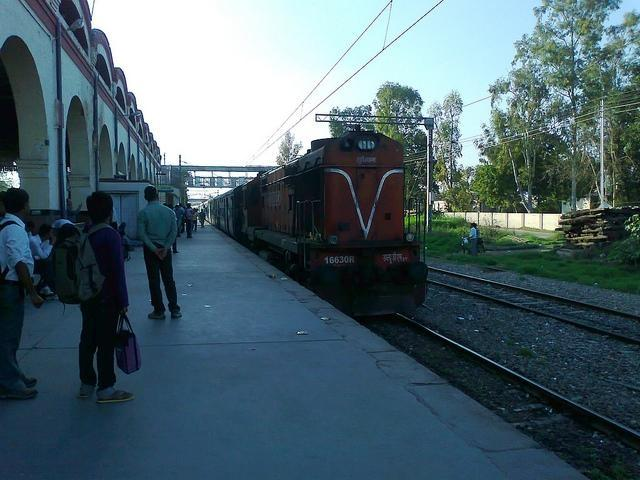bicycle: (450, 236, 486, 255)
